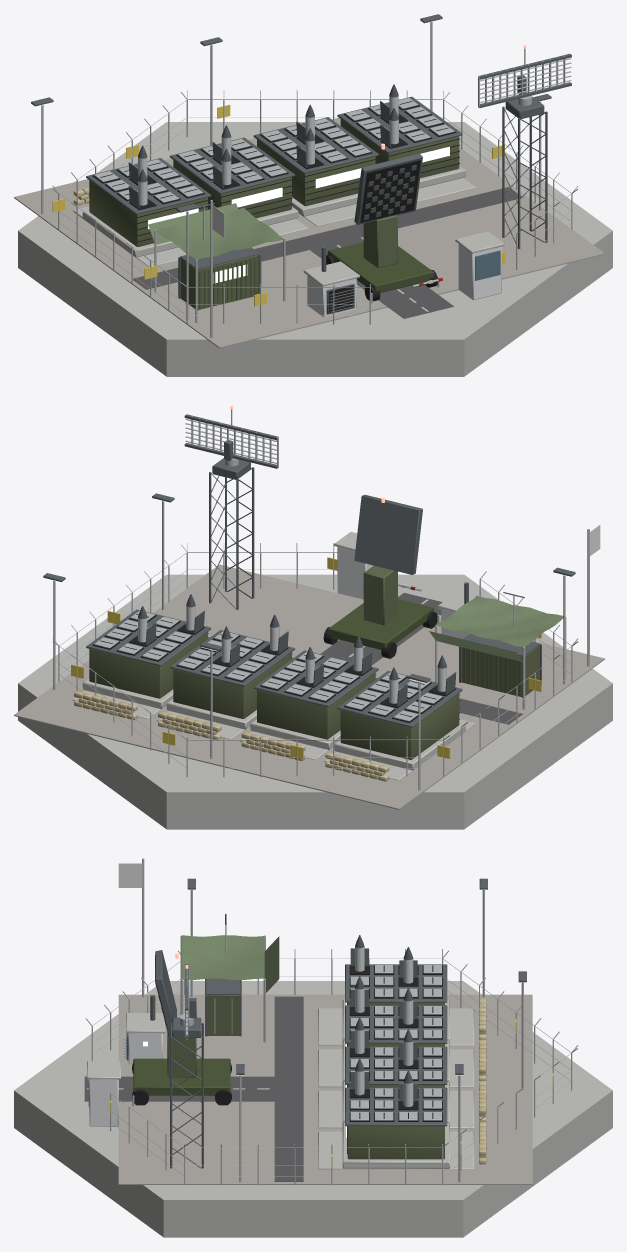
File: samSiteVls.glb
The picture shows the model from 3 angles, top to bottom: view 1: azimuth 30°, elevation 25°; view 2: azimuth 150°, elevation 25°; view 3: azimuth 270°, elevation 25°; orthographic projection.
Visible parts, largest first — view 1: wall_concrete, gravel, paint, steel_dark, metal, dark, asphalt, net, cladding, glow_cyan, hazard, glass; view 2: wall_concrete, gravel, paint, steel_dark, metal, net, dark, sandbag, asphalt, cladding, hazard; view 3: wall_concrete, gravel, metal, steel_dark, paint, asphalt, dark, net, cladding, sandbag, banner.
Boxes of the visible parts, bbox=[...] form: wall_concrete: bbox=[18, 122, 612, 376]; gravel: bbox=[14, 117, 604, 348]; paint: bbox=[89, 84, 459, 309]; steel_dark: bbox=[31, 14, 571, 314]; metal: bbox=[41, 22, 577, 337]; dark: bbox=[92, 101, 459, 313]; asphalt: bbox=[133, 187, 523, 318]; net: bbox=[148, 203, 283, 259]; cladding: bbox=[307, 244, 501, 316]; glow_cyan: bbox=[148, 146, 449, 283]; hazard: bbox=[52, 104, 504, 306]; glass: bbox=[475, 250, 500, 280]; wall_concrete: bbox=[18, 532, 612, 829]; gravel: bbox=[14, 564, 604, 809]; paint: bbox=[89, 565, 539, 759]; steel_dark: bbox=[43, 414, 575, 727]; metal: bbox=[52, 409, 589, 790]; net: bbox=[429, 596, 563, 661]; dark: bbox=[92, 612, 459, 722]; sandbag: bbox=[74, 691, 389, 781]; asphalt: bbox=[208, 593, 522, 724]; cladding: bbox=[337, 547, 469, 638]; hazard: bbox=[71, 557, 541, 758]; wall_concrete: bbox=[14, 981, 612, 1237]; gravel: bbox=[118, 994, 532, 1184]; metal: bbox=[85, 858, 577, 1185]; steel_dark: bbox=[127, 878, 526, 1168]; paint: bbox=[133, 935, 444, 1159]; asphalt: bbox=[84, 996, 303, 1181]; dark: bbox=[126, 955, 442, 1154]; net: bbox=[182, 935, 279, 992]; cladding: bbox=[89, 1033, 162, 1126]; sandbag: bbox=[479, 998, 486, 1164]; banner: bbox=[118, 863, 142, 887].
Bounding box in the file's own units: 21.3 × 10.62 × 24.6.
